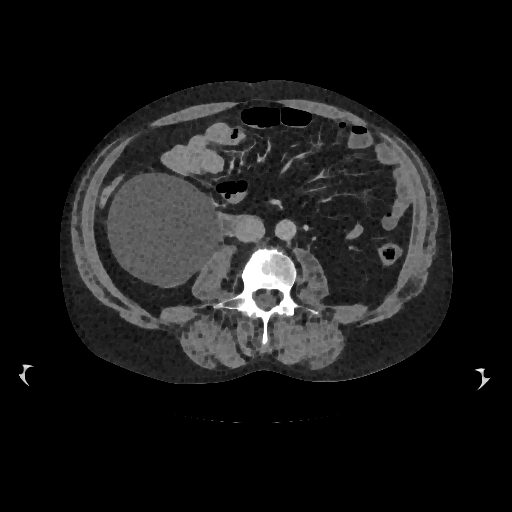Lesion: (106, 176, 220, 285)
